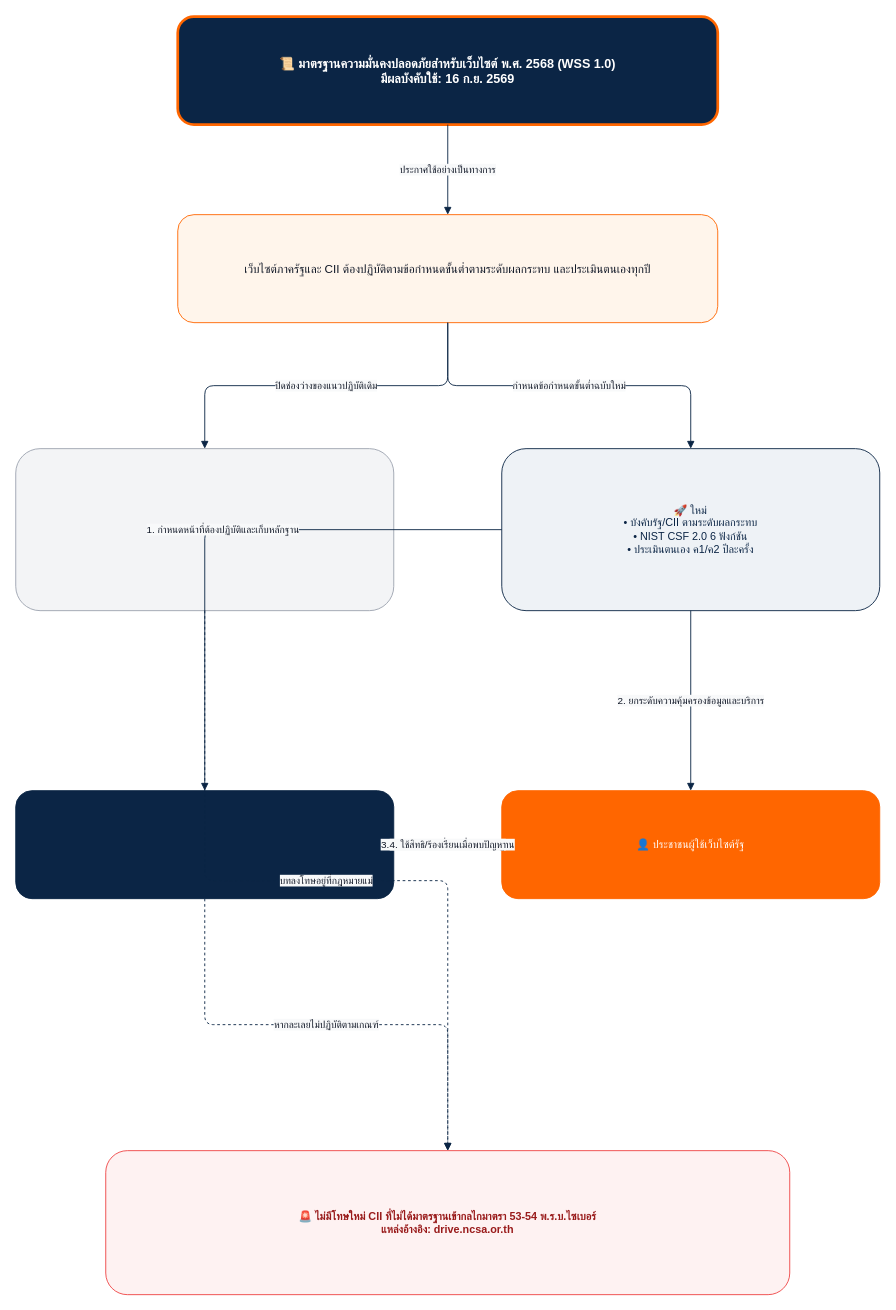
The diagram is 896 pixels wide and 1310 high, and some of its shapes have lost their labels. The shapes that lost their labels are listed below. From the top down, each one's box as (x1, y1, x2, y2) in pixels, then its label:
(15, 448, 394, 611): 🏛️ เดิม • มีแค่แนวปฏิบัติไม่บังคับ • เว็บรัฐถูกแฮ็ก/ฝังพนันบ่อย
(15, 790, 394, 899): 🏢 ผู้พัฒนาเว็บ / Web Hosting / ทีมไอทีหน่วยงาน
